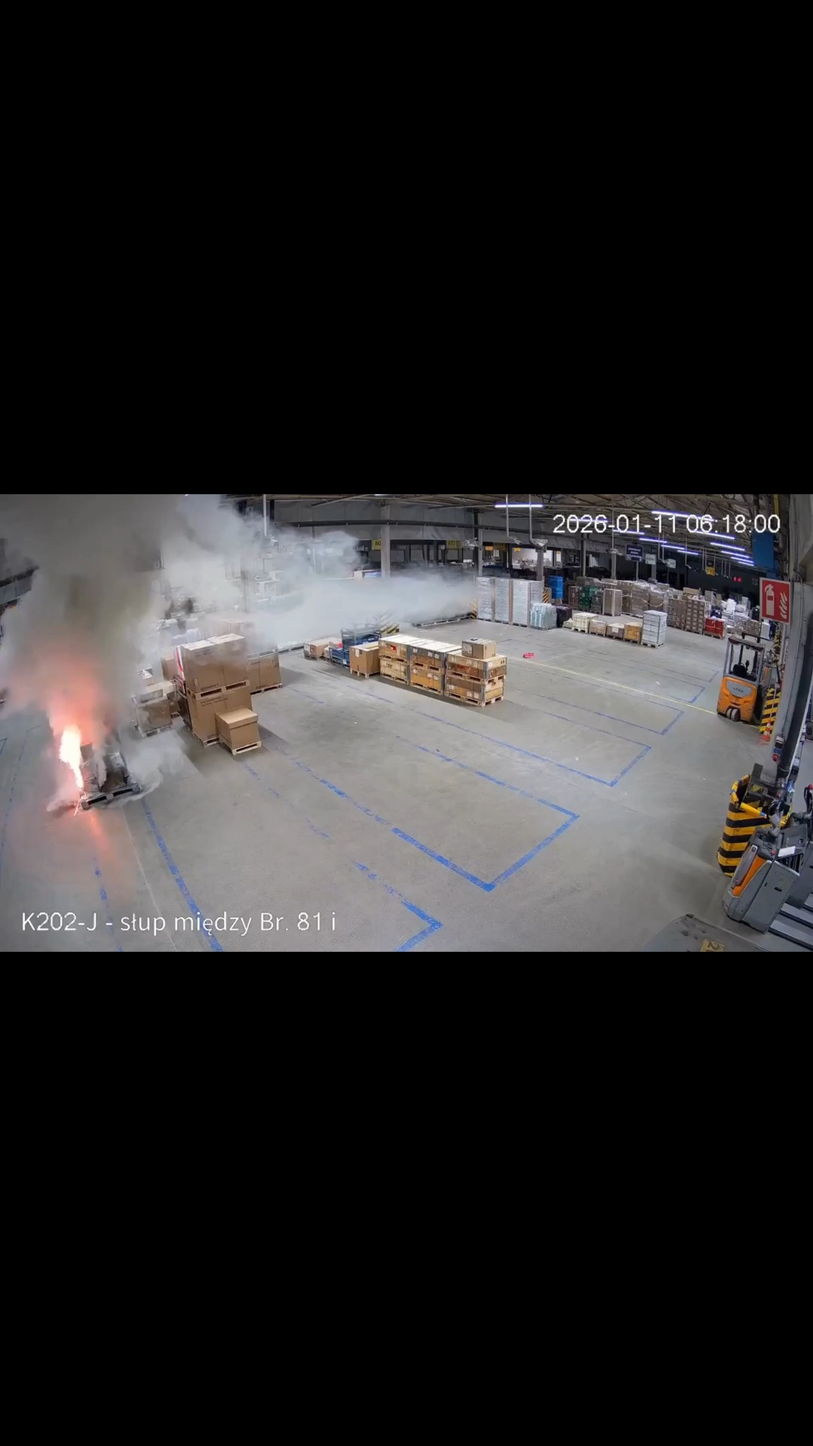fire: (39, 673, 108, 794)
smoke: (1, 495, 474, 754)
